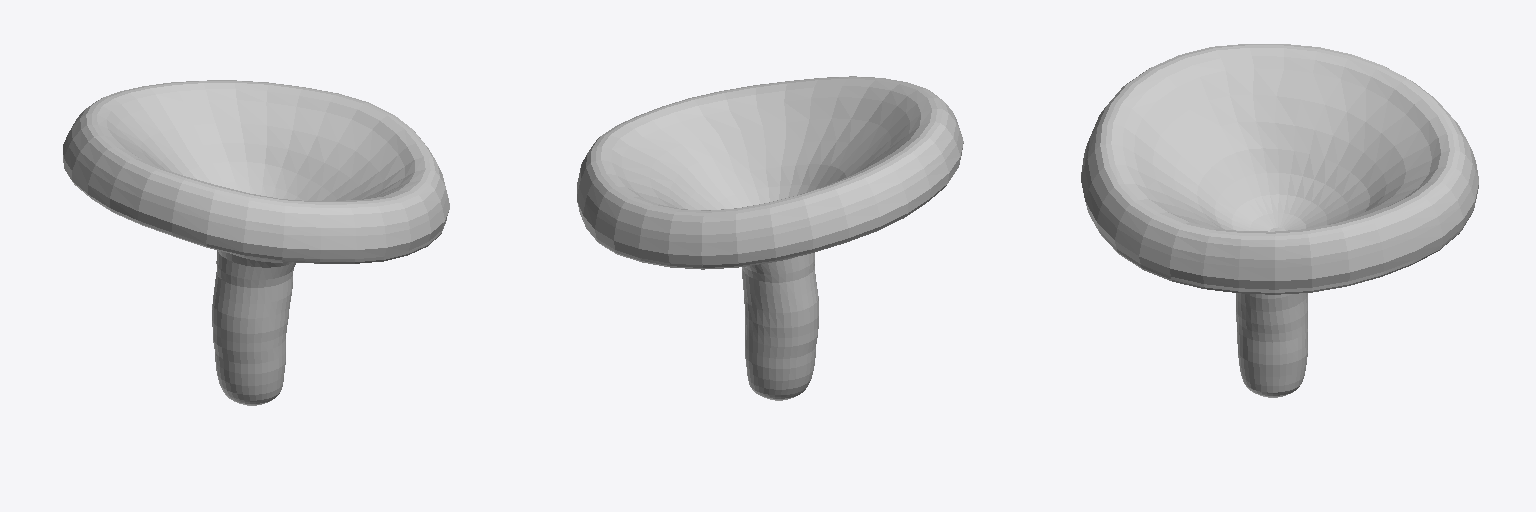
Rendered from gruzd-osinovyj.obj.
3 renders of one model, left to right at view 1: azimuth 30°, elevation 25°; view 2: azimuth 150°, elevation 25°; view 3: azimuth 270°, elevation 25°, orthographic.
Parts seen in each view (by area): view 1: Cylinder_Cylinder.001; view 2: Cylinder_Cylinder.001; view 3: Cylinder_Cylinder.001.
Boxes of the visible parts, box(x1,y1,x2,y2) form: Cylinder_Cylinder.001: box(63, 80, 449, 405); Cylinder_Cylinder.001: box(577, 76, 963, 400); Cylinder_Cylinder.001: box(1081, 44, 1478, 397).
Size of the model in its own units: 4.5 by 3.7 by 4.69.